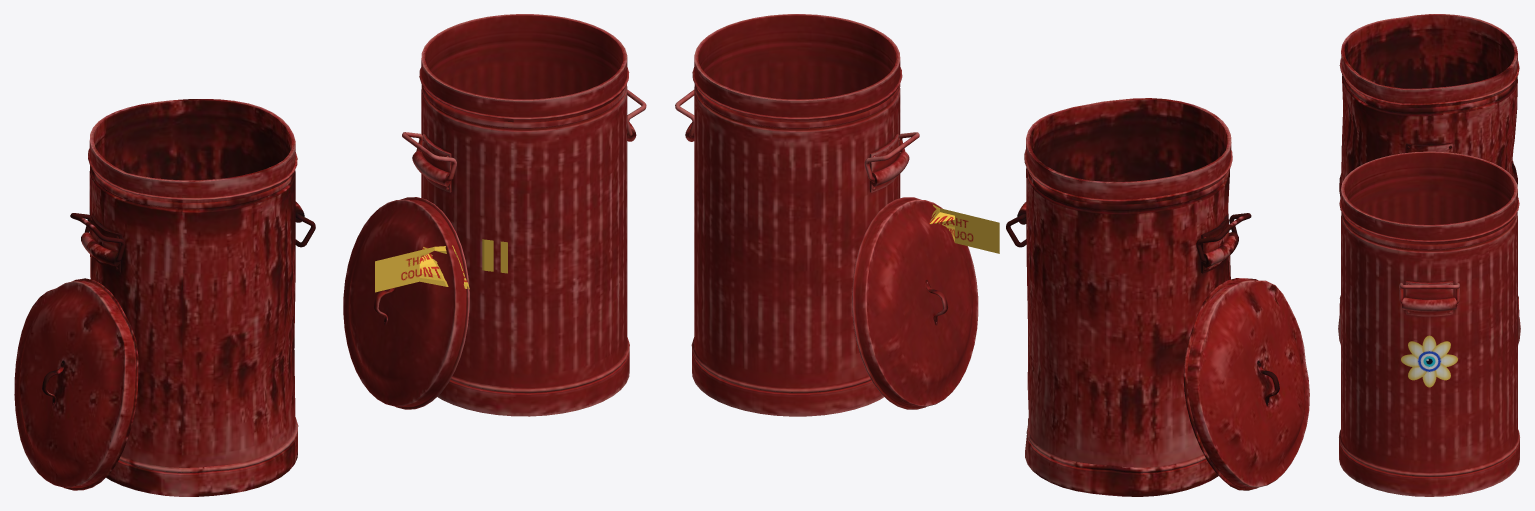
Rendered from nyb_mcmlow_bin.glb.
The picture shows the model from 3 angles, left to right: view 1: azimuth 30°, elevation 25°; view 2: azimuth 150°, elevation 25°; view 3: azimuth 270°, elevation 25°; orthographic projection. The views are drawn at different scales.
Parts seen in each view (by area): view 1: metal_trash_can_handle_left, stk_lbl_24ced3d80f.png; view 2: metal_trash_can_handle_left, stk_lbl_24ced3d80f.png; view 3: metal_trash_can_handle_left, stk_eyeflower_gold.png.
Part boxes in pixels (x1,y1,x2,y2): metal_trash_can_handle_left: (14,14,646,496); stk_lbl_24ced3d80f.png: (375,239,507,292); metal_trash_can_handle_left: (675,14,1309,496); stk_lbl_24ced3d80f.png: (929,204,999,253); metal_trash_can_handle_left: (1338,14,1520,496); stk_eyeflower_gold.png: (1401,335,1457,387).
Bounding box in the file's own units: 1.78 × 0.9062 × 0.5563.
5 materials, 5 textured.
